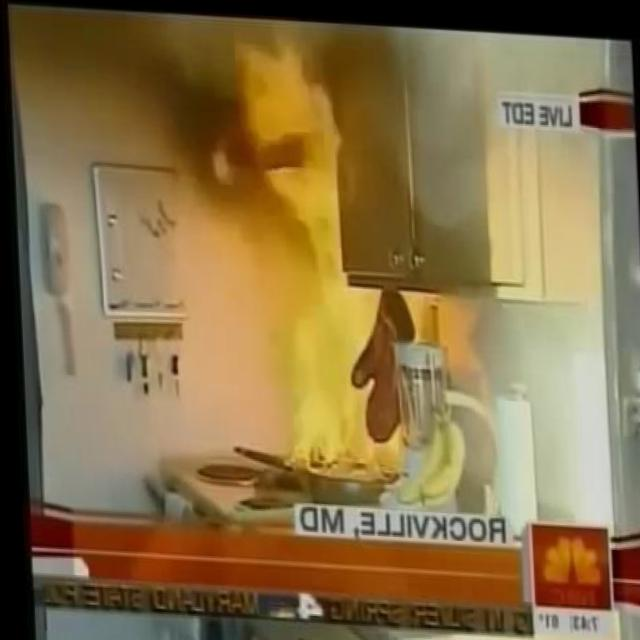fire: (273, 213, 406, 482)
